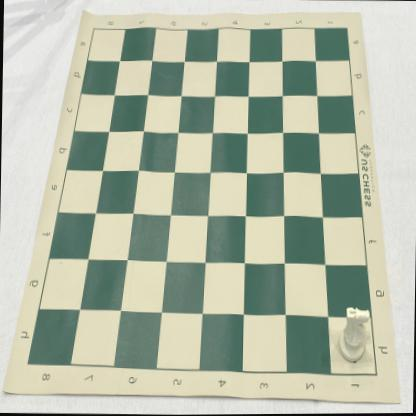white-knight: (337, 306, 370, 364)
